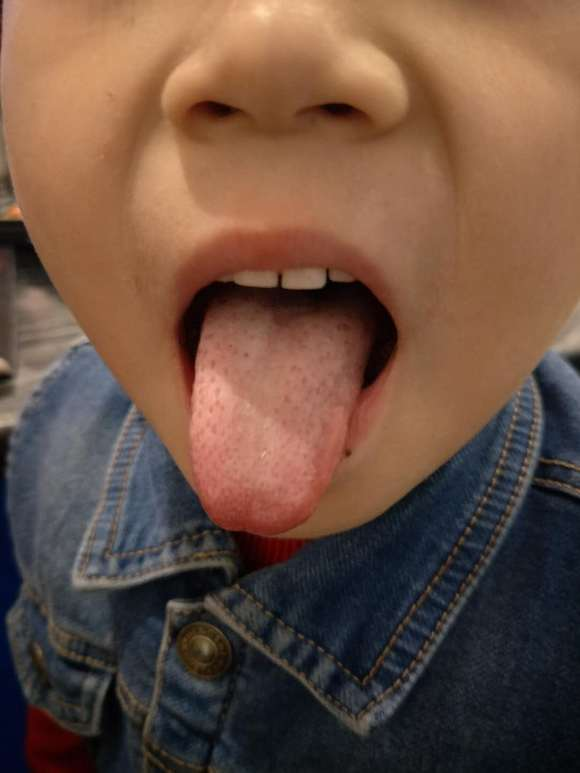baitaishe: (190, 288, 371, 534)
hongshe: (190, 288, 371, 534)
